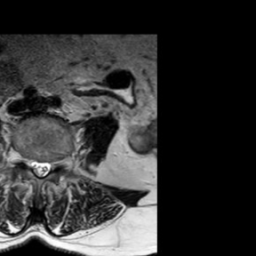CCS_stenosis: (38, 151, 44, 185)
LFS_normal: (52, 152, 60, 175)
LLS_normal: (44, 154, 52, 181)
RFS_normal: (21, 147, 30, 173)
RLS_normal: (30, 150, 38, 181)
